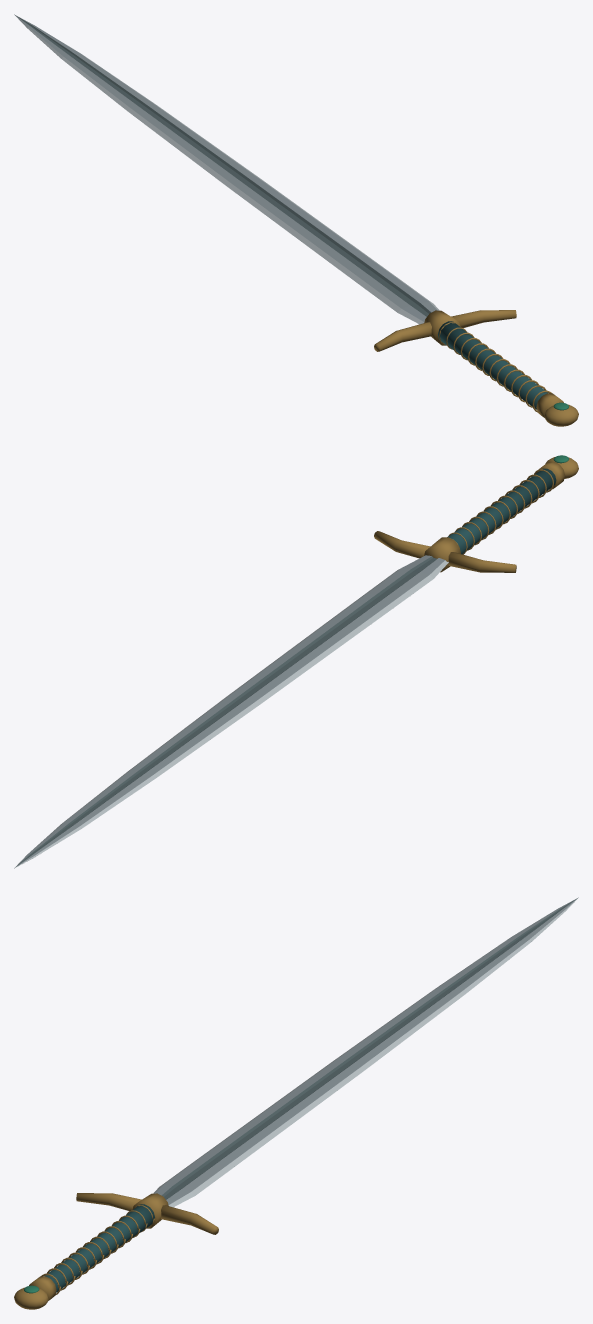
The model's file is glass.glb.
3 views of the same model, one above another, from view 1: azimuth 30°, elevation 25°; view 2: azimuth 150°, elevation 25°; view 3: azimuth 330°, elevation 25° (orthographic).
Visible parts, largest first — view 1: MV_glass; view 2: MV_glass; view 3: MV_glass.
Boxes of the visible parts, x1,y1,x2,y2 form: MV_glass: (14,14,578,426); MV_glass: (14,455,578,868); MV_glass: (14,897,578,1309).
Bounding box in the file's own units: 0.2957 × 0.054 × 2.01.
